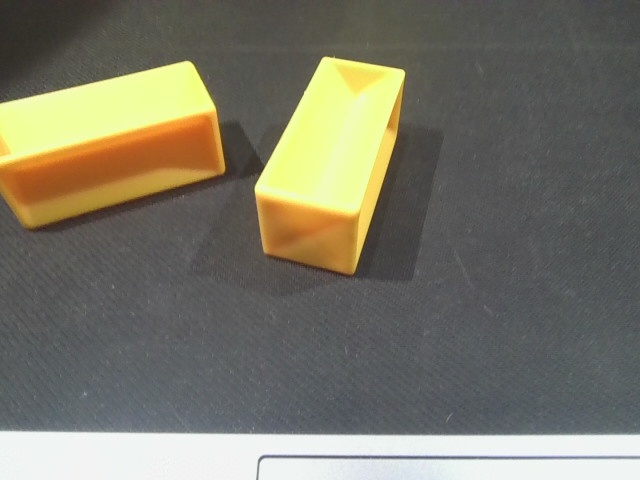YellowSample: (1, 59, 230, 240), (253, 53, 406, 278)
